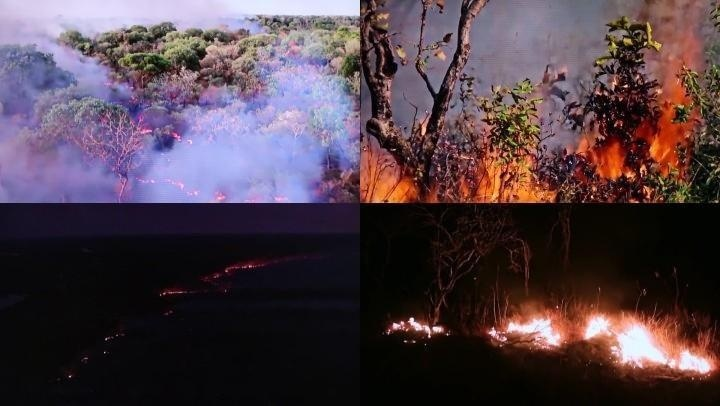fire: (361, 92, 554, 203), (482, 295, 718, 367), (489, 313, 563, 346), (383, 313, 450, 339)
